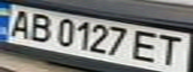0: (51, 16, 78, 47)
1: (72, 19, 93, 52)
2: (87, 20, 112, 55)
7: (106, 24, 133, 58)
A: (3, 7, 36, 38)
B: (24, 11, 57, 43)
E: (130, 28, 166, 64)
T: (151, 33, 190, 67)
